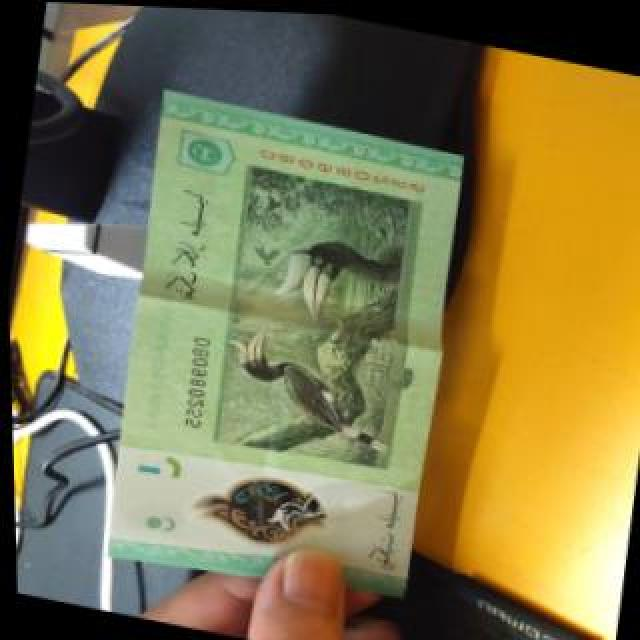5 Ringgit: (88, 80, 480, 621)
